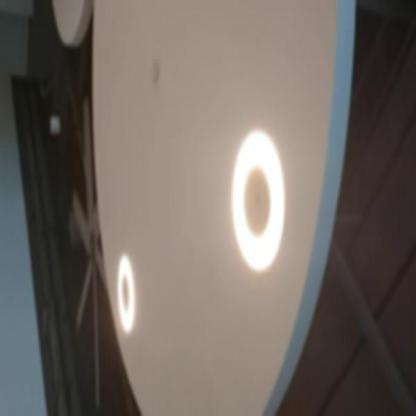light_on: (224, 105, 296, 300), (108, 240, 142, 346)
